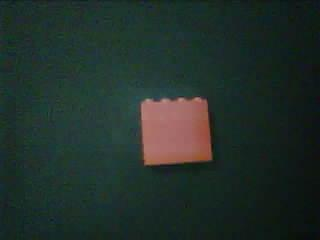lego: (138, 95, 213, 167)
